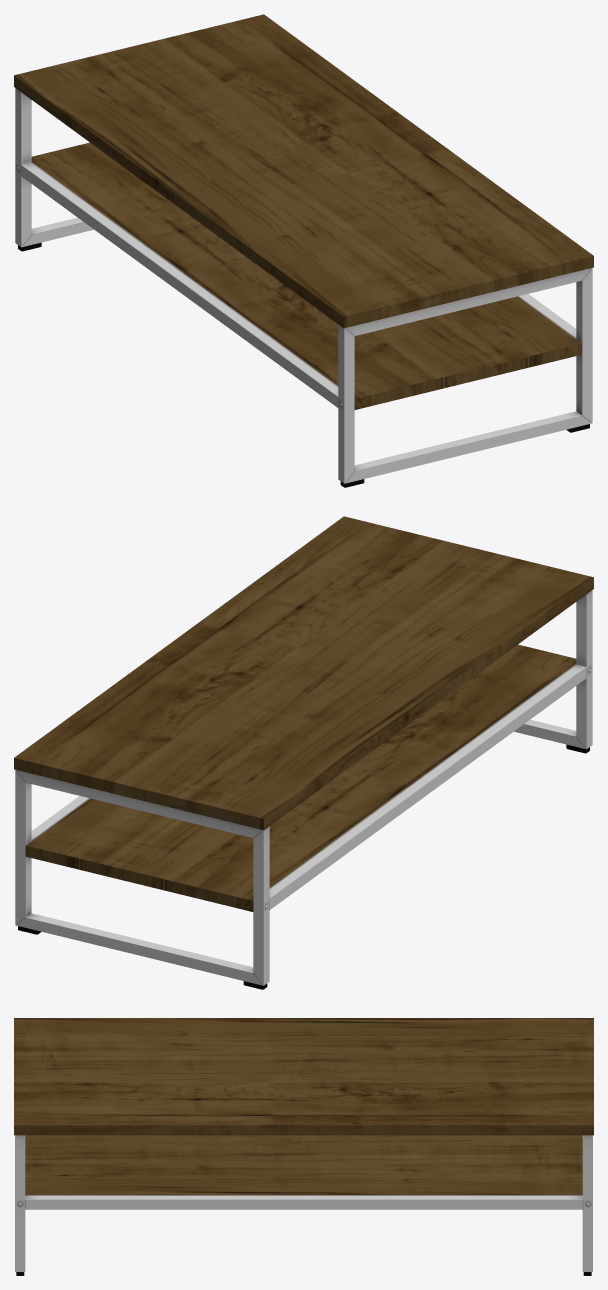
The model's file is coffeetable.obj.
3 renders of one model, top to bottom at view 1: azimuth 30°, elevation 25°; view 2: azimuth 150°, elevation 25°; view 3: azimuth 270°, elevation 25°, orthographic. The views are drawn at different scales.
Parts seen in each view (by area): view 1: SM_MERGED_SM_CoffeeTable_2; view 2: SM_MERGED_SM_CoffeeTable_2; view 3: SM_MERGED_SM_CoffeeTable_2.
Part boxes in pixels (left/top/right/bottom): SM_MERGED_SM_CoffeeTable_2: left=14, top=14, right=593, bottom=487; SM_MERGED_SM_CoffeeTable_2: left=14, top=516, right=593, bottom=989; SM_MERGED_SM_CoffeeTable_2: left=14, top=1018, right=593, bottom=1275.
Bounding box in the file's own units: 0.6999 × 0.4615 × 1.6.
1 material, 1 textured.
